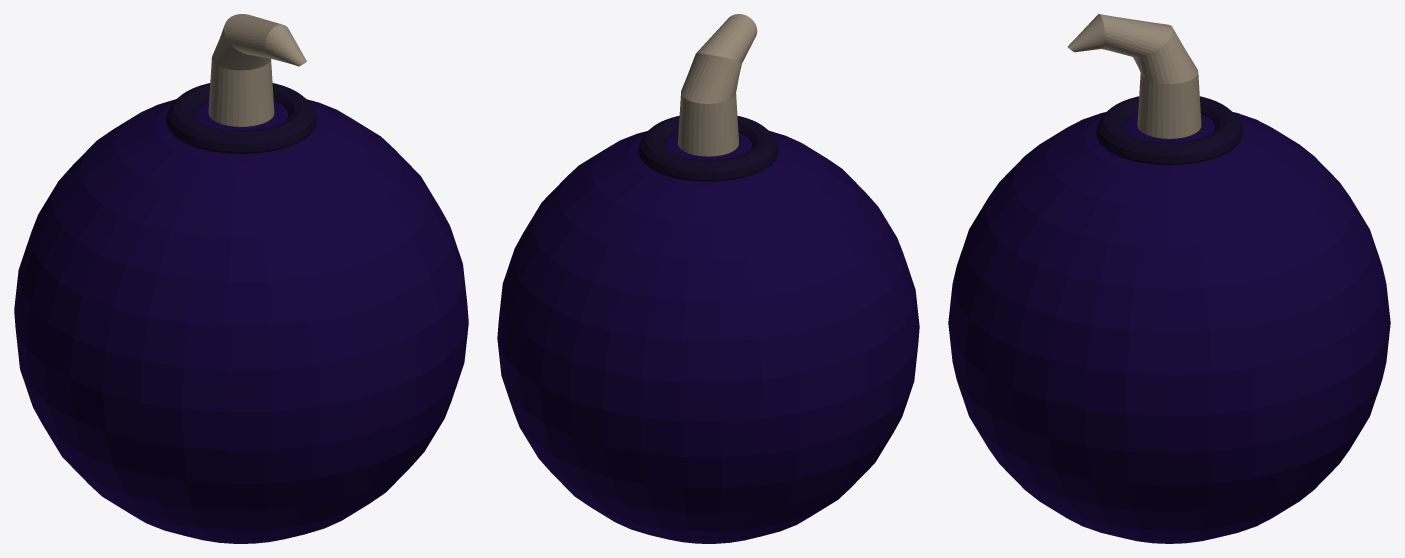
The model's file is Bomb.fbx.
3 views of the same model, side by side, from view 1: azimuth 30°, elevation 25°; view 2: azimuth 150°, elevation 25°; view 3: azimuth 270°, elevation 25° (orthographic). The views are drawn at different scales.
Parts seen in each view (by area): view 1: Sphere, Cylinder, Torus.002; view 2: Sphere, Cylinder, Torus.002; view 3: Sphere, Cylinder, Torus.002.
Part boxes in pixels (bbox=[...]): Sphere: bbox=[14, 99, 468, 543]; Cylinder: bbox=[208, 14, 306, 126]; Torus.002: bbox=[166, 83, 316, 153]; Sphere: bbox=[497, 130, 919, 543]; Cylinder: bbox=[678, 14, 757, 156]; Torus.002: bbox=[638, 115, 778, 181]; Sphere: bbox=[948, 112, 1390, 543]; Cylinder: bbox=[1067, 14, 1201, 138]; Torus.002: bbox=[1096, 96, 1242, 165].
Bounding box in the file's own units: 200 × 253 × 200.
